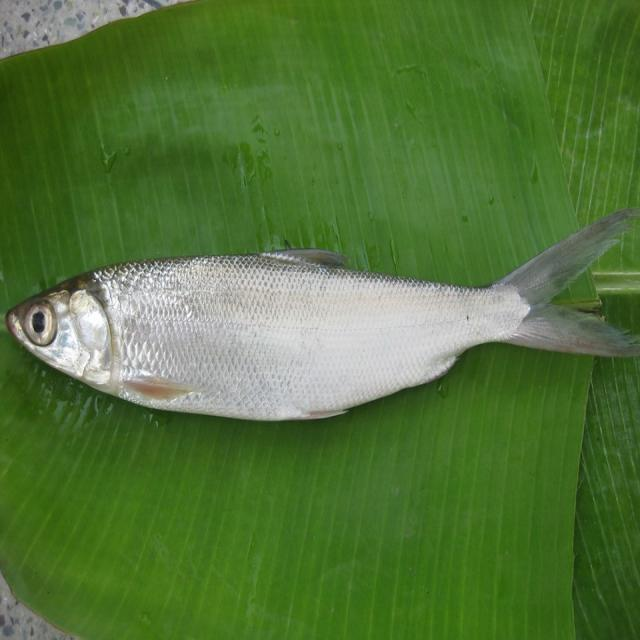Bangus: (0, 174, 640, 516)
